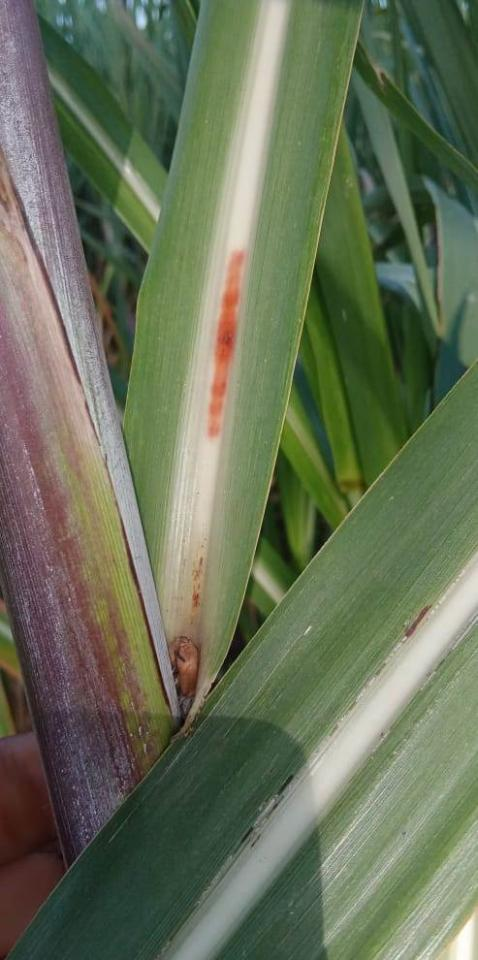RedRot: (207, 245, 249, 444)
